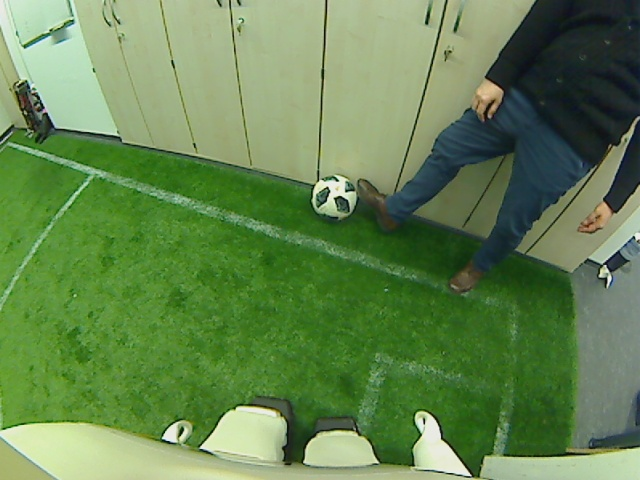ball: (309, 172, 359, 221)
